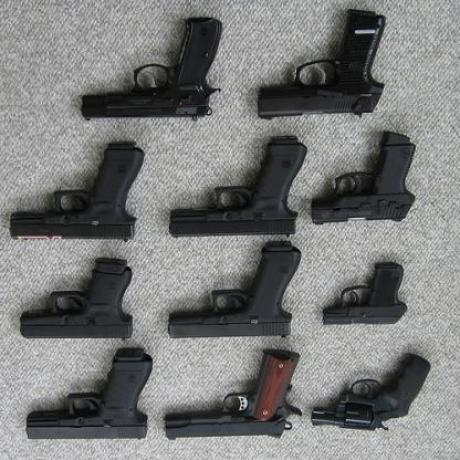weapon: (77, 13, 228, 128), (252, 1, 389, 125), (169, 130, 310, 243), (163, 238, 303, 342), (164, 347, 304, 449), (11, 142, 148, 244), (22, 343, 158, 445), (307, 132, 421, 230), (16, 255, 138, 343), (310, 352, 435, 436), (322, 259, 410, 329)
